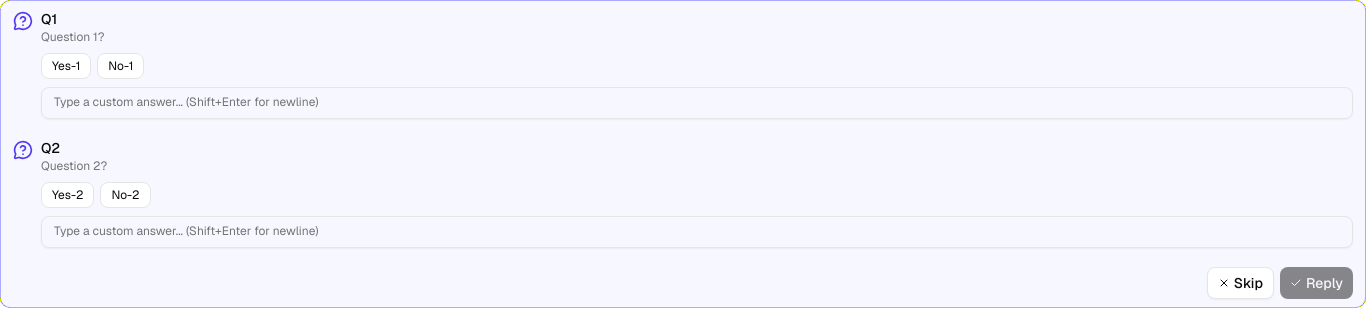
Test: QuestionBanner - Reply gating › enables Reply only after every question has an answer
The image size is (1366, 325).
Click the button "Yes-1".
click(66, 66)  # box left=41, top=53, right=91, bottom=79
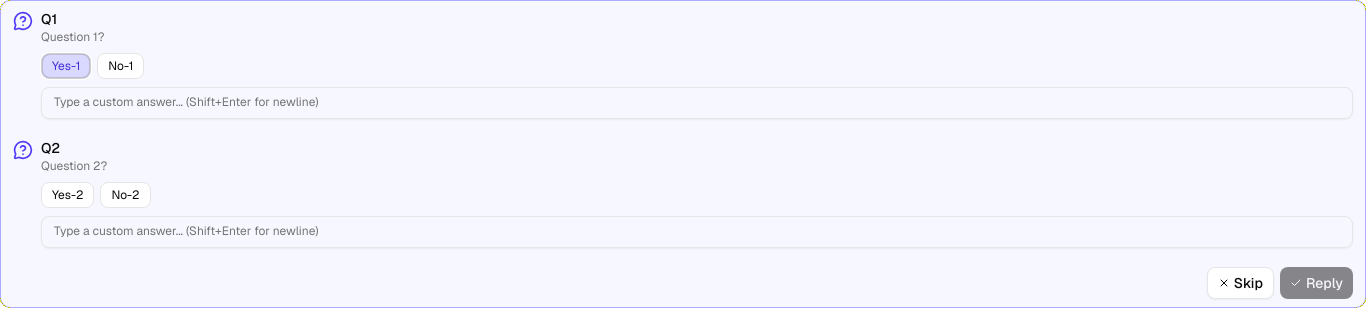
Expected: the button "Reply" is disabled, left=1280, top=267, right=1353, bottom=299
Click the button "No-2".
click(125, 195)  # box left=100, top=182, right=150, bottom=208
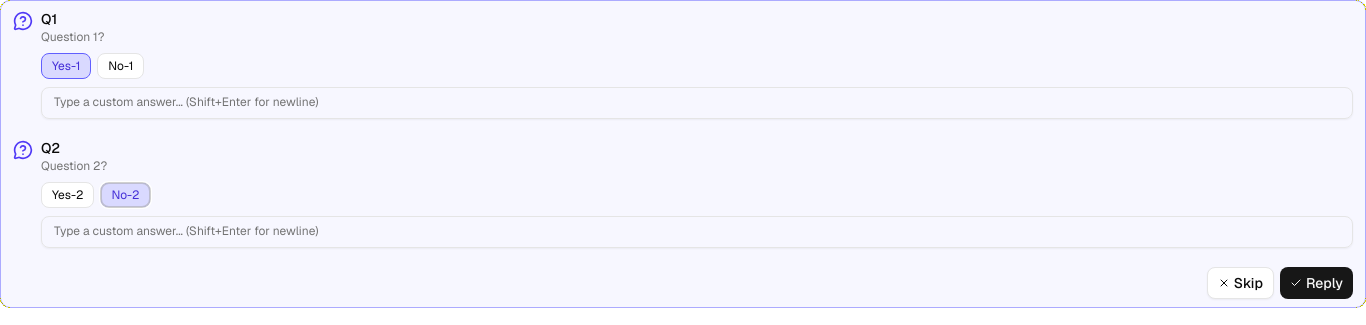
Result: the button "Reply" is enabled at left=1280, top=267, right=1353, bottom=299
